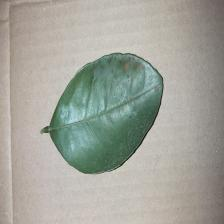healthy: (48, 50, 169, 178)
